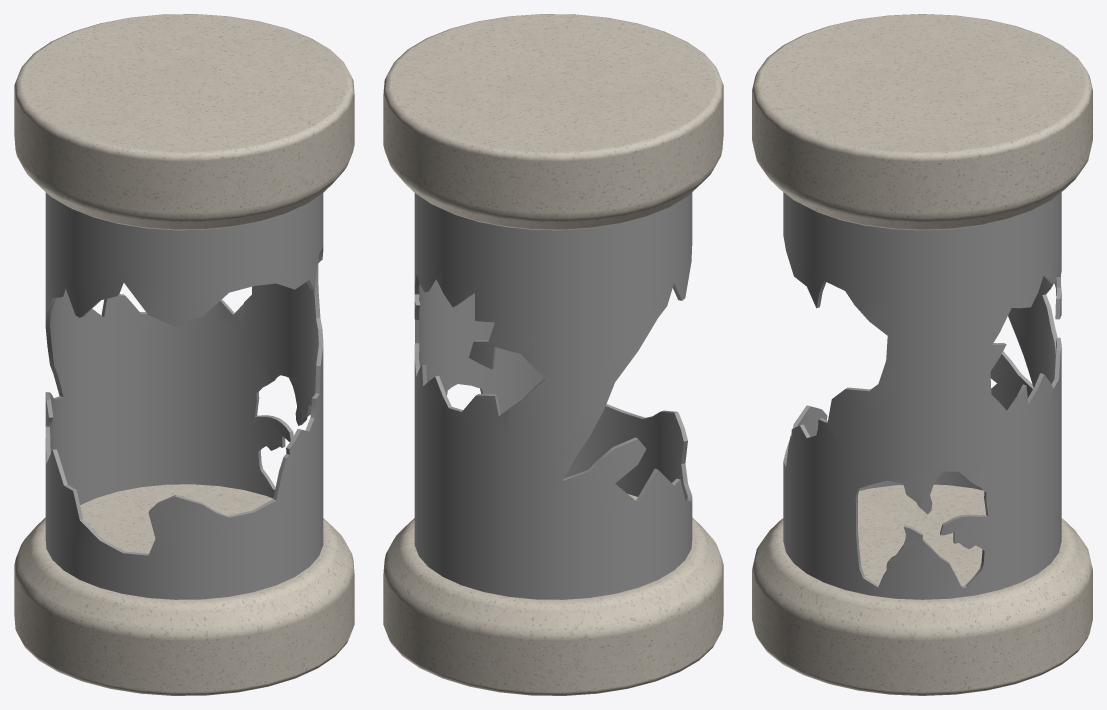
Rendered from Tube Cracked.fbx.
3 renders of one model, left to right at view 1: azimuth 30°, elevation 25°; view 2: azimuth 150°, elevation 25°; view 3: azimuth 270°, elevation 25°, orthographic.
Visible parts, largest first — view 1: Ceiling Tube Cracked, Tube Glass Cracked; view 2: Ceiling Tube Cracked, Tube Glass Cracked; view 3: Ceiling Tube Cracked, Tube Glass Cracked.
Boxes of the visible parts, <box> form: Ceiling Tube Cracked: <box>14,14,354,695</box>; Tube Glass Cracked: <box>45,192,323,599</box>; Ceiling Tube Cracked: <box>383,14,723,695</box>; Tube Glass Cracked: <box>414,192,692,599</box>; Ceiling Tube Cracked: <box>752,14,1092,695</box>; Tube Glass Cracked: <box>783,192,1061,599</box>.
Size of the model in its own units: 2.27 by 2.27 by 4.
